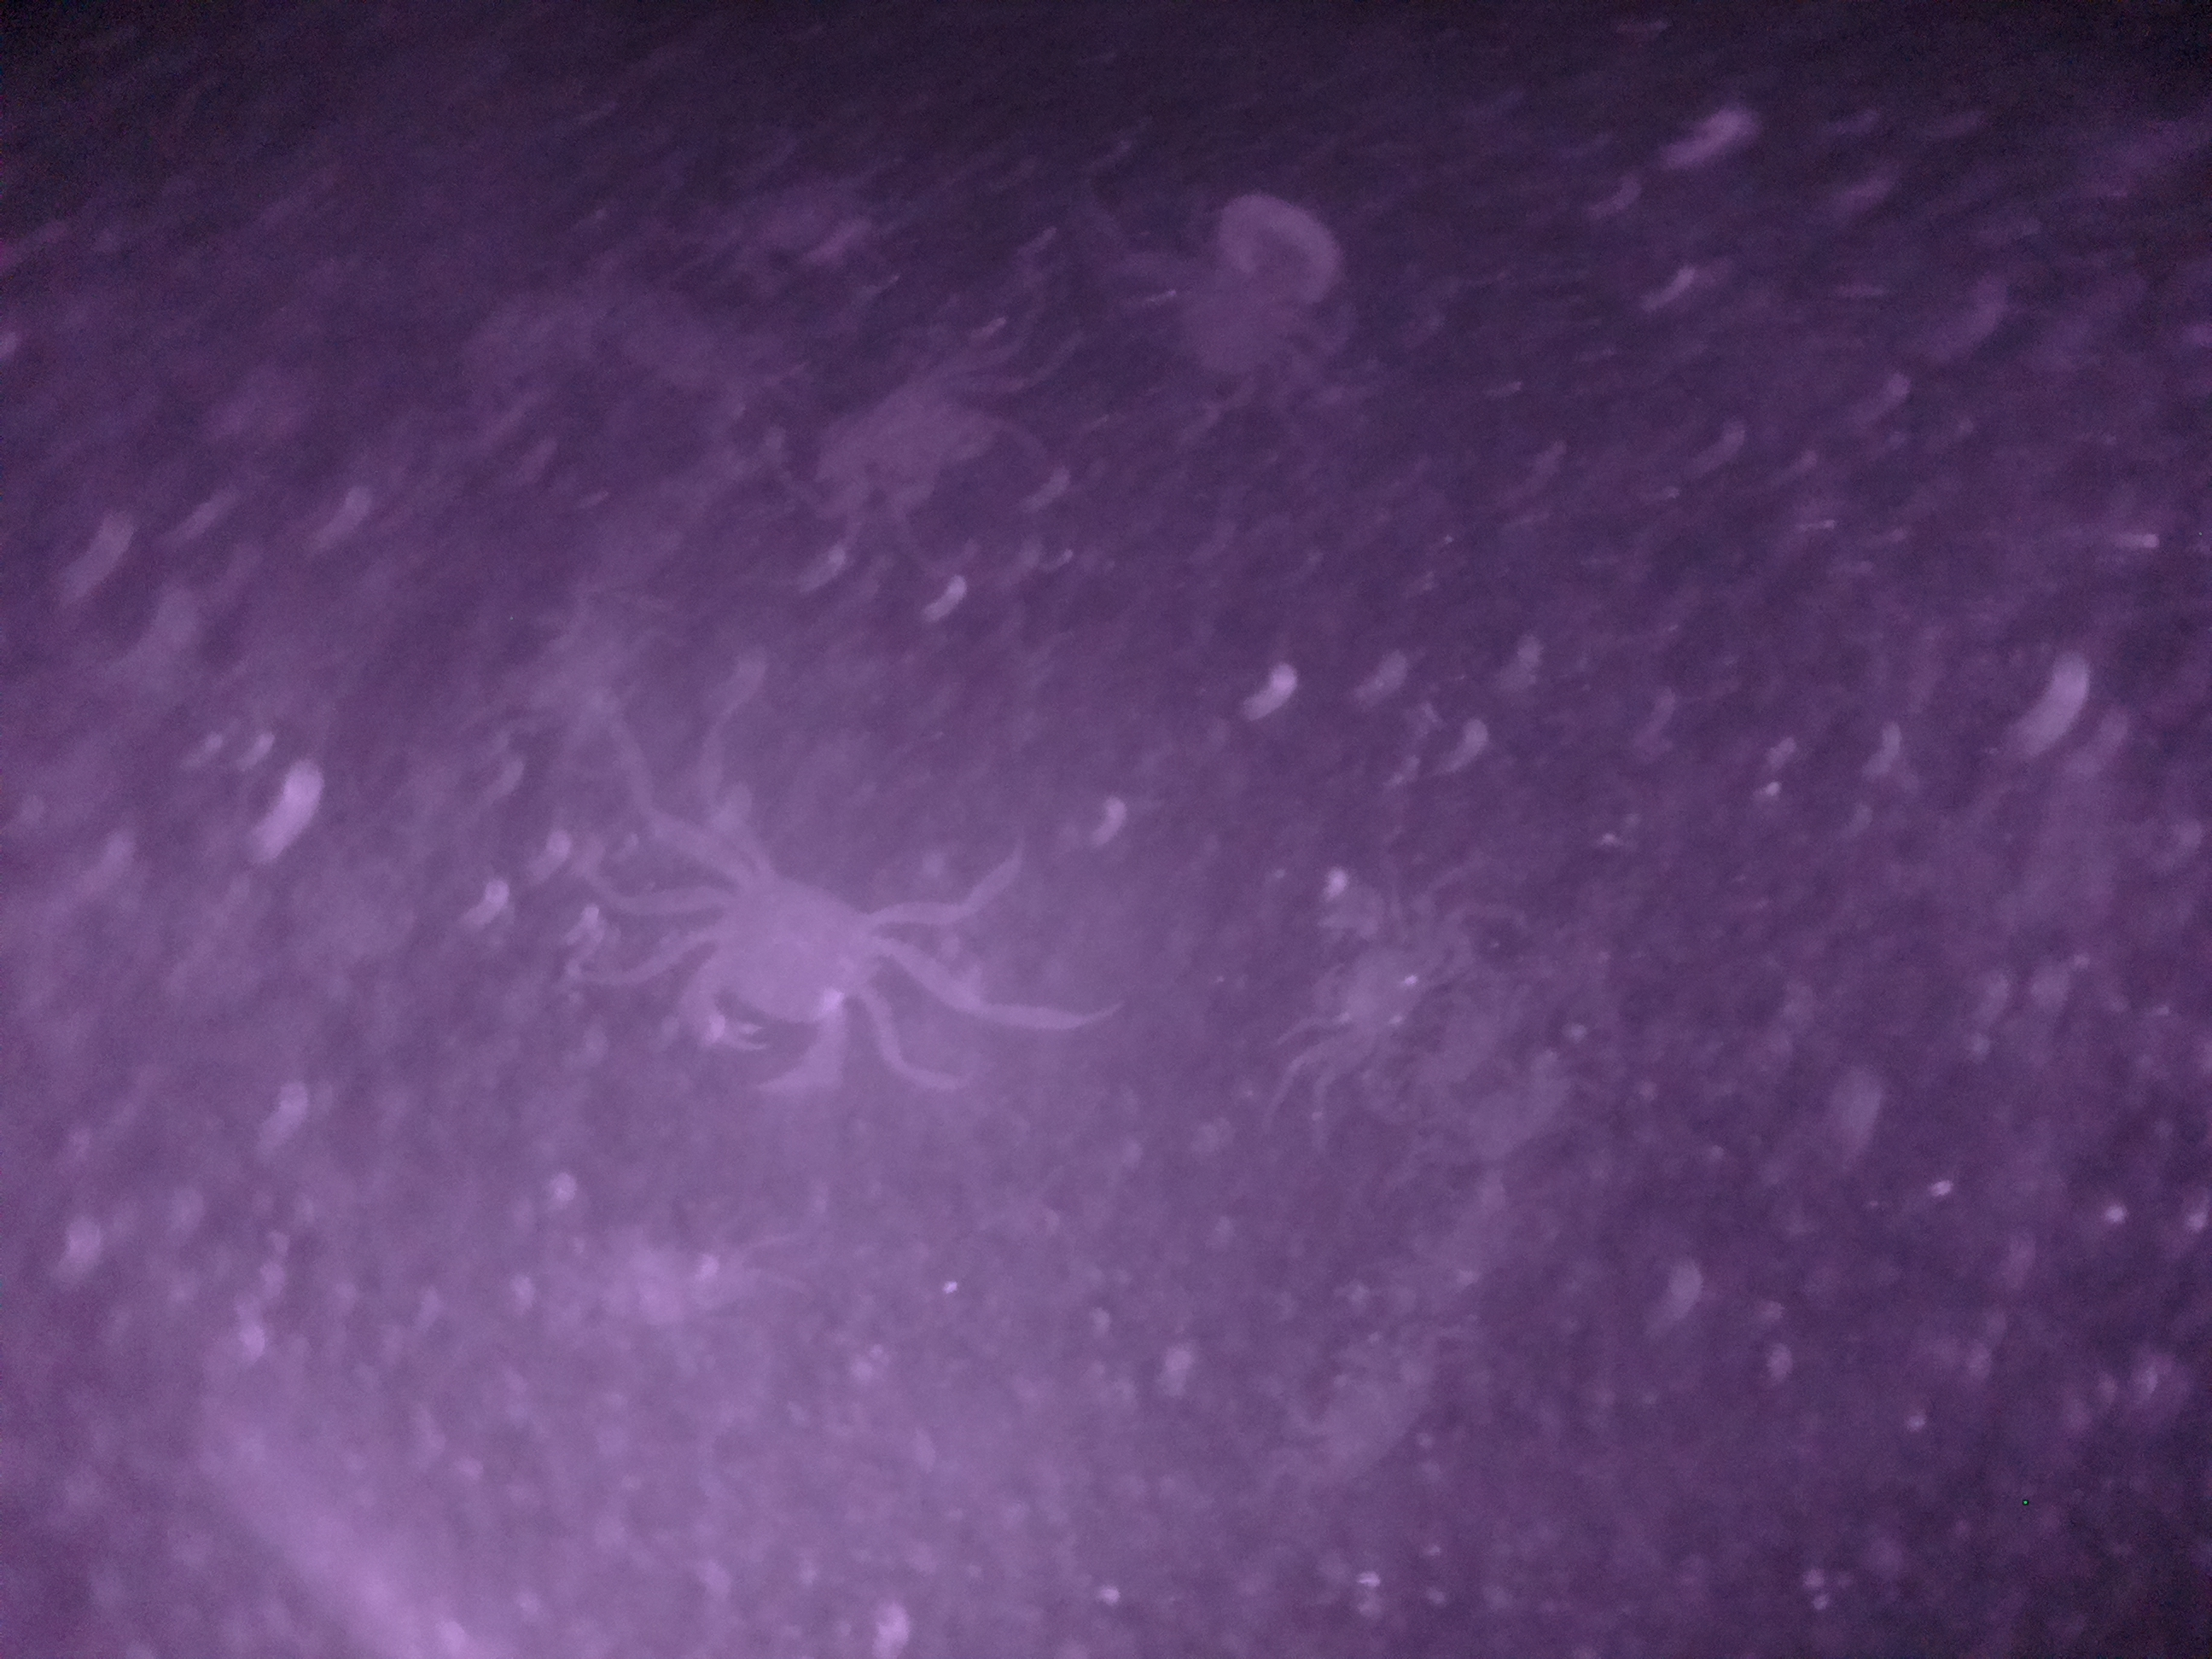Crab: (653, 829, 911, 1110)
